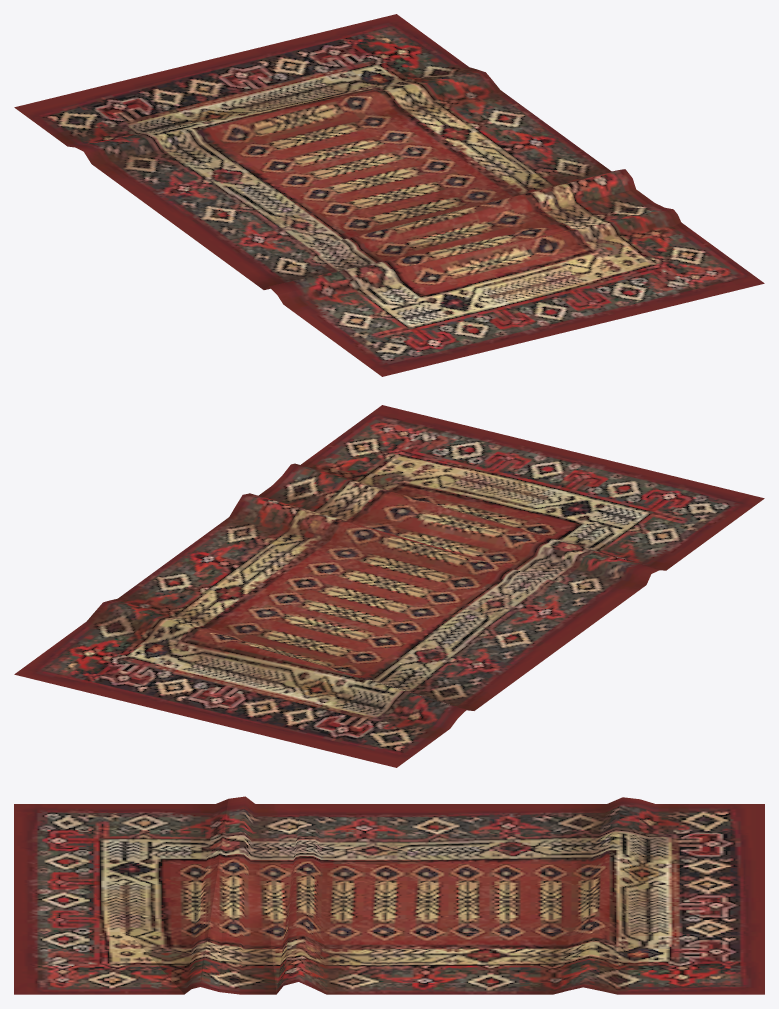
File: Rug01.FBX
The picture shows the model from 3 angles, top to bottom: view 1: azimuth 30°, elevation 25°; view 2: azimuth 150°, elevation 25°; view 3: azimuth 270°, elevation 25°; orthographic projection.
Visible parts, largest first — view 1: LV_Spechia_Object_Rugs01_SM_PJH; view 2: LV_Spechia_Object_Rugs01_SM_PJH; view 3: LV_Spechia_Object_Rugs01_SM_PJH.
Part boxes in pixels (x1,y1,x2,y2): LV_Spechia_Object_Rugs01_SM_PJH: (14, 14, 764, 376); LV_Spechia_Object_Rugs01_SM_PJH: (14, 405, 764, 767); LV_Spechia_Object_Rugs01_SM_PJH: (14, 796, 764, 994).
Size of the model in its own units: 72 by 2.22 by 120.
